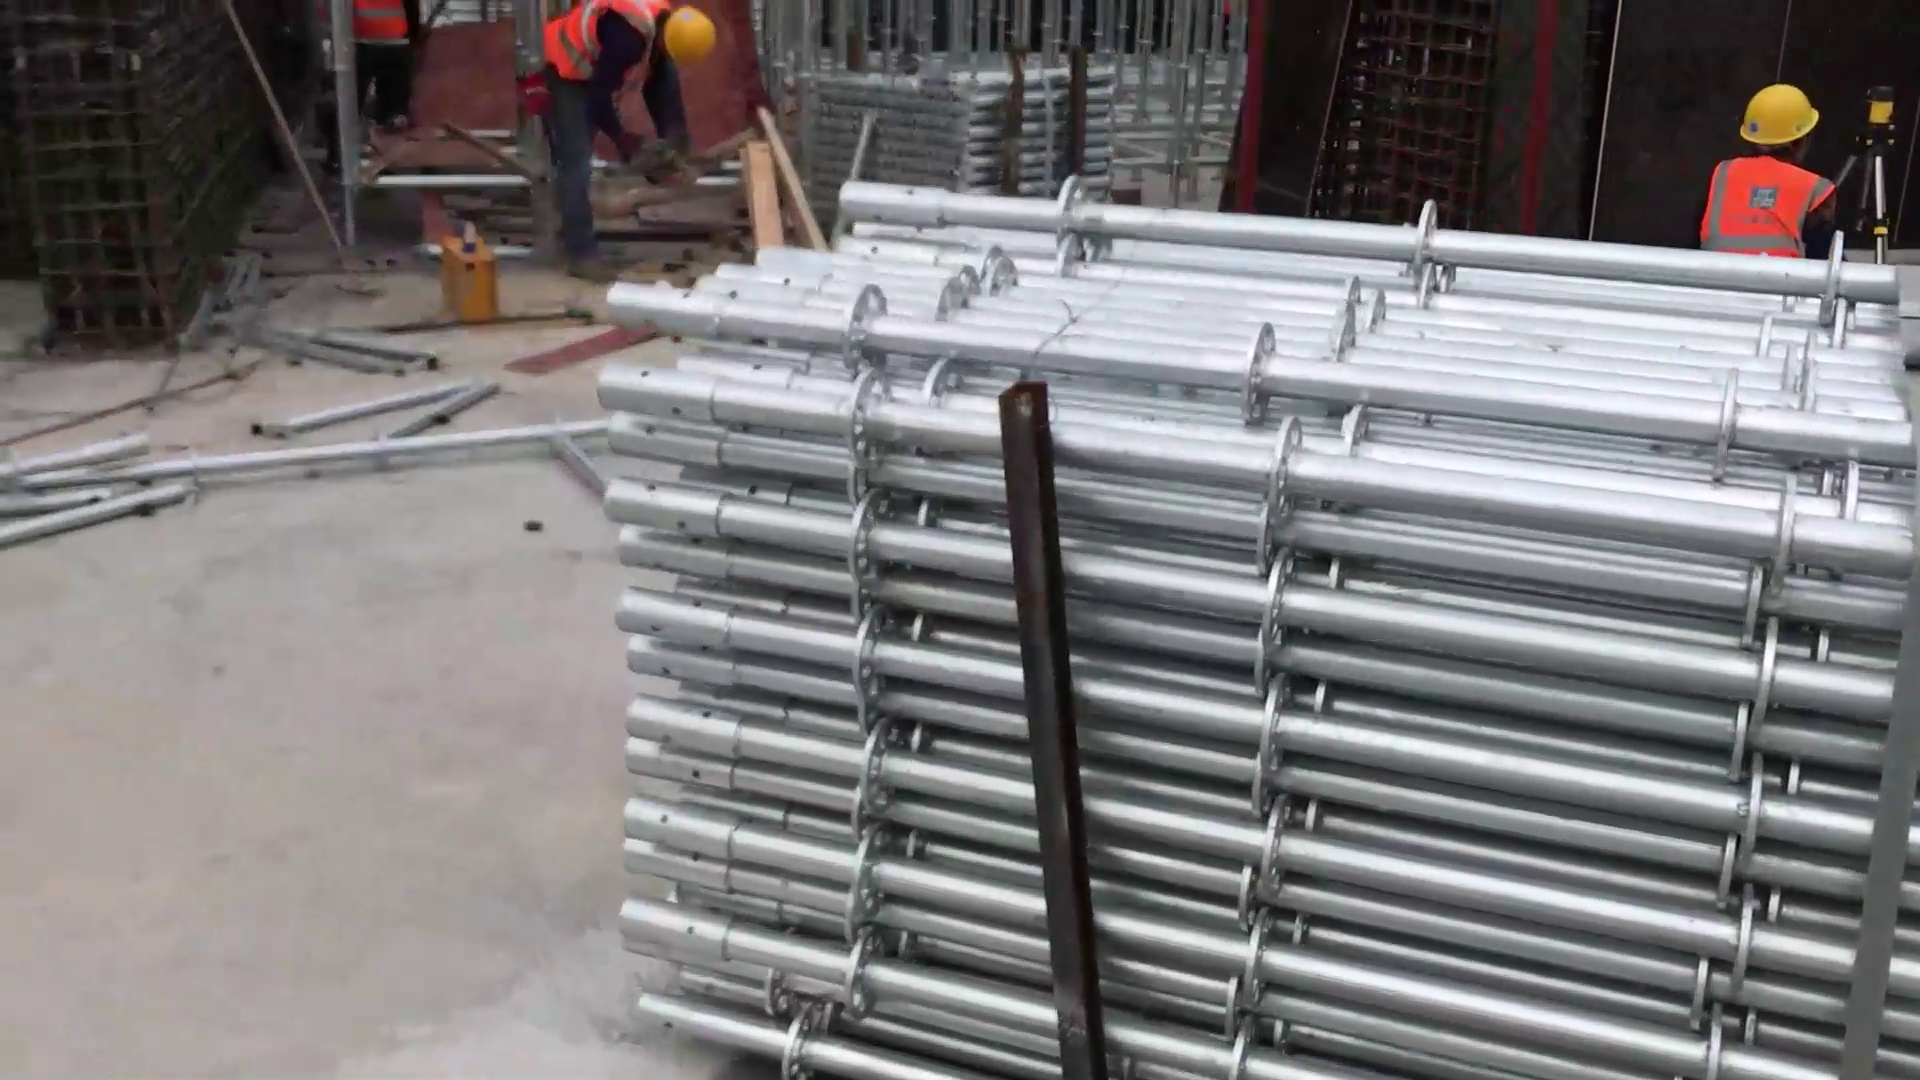ebox: (438, 217, 508, 333)
helmet: (1739, 84, 1822, 147), (664, 4, 716, 66)
person: (525, 1, 722, 285), (1696, 79, 1862, 261)
scaffold: (591, 167, 1920, 1079), (793, 61, 1115, 189)
vest: (1704, 155, 1837, 257), (544, 1, 658, 86)
